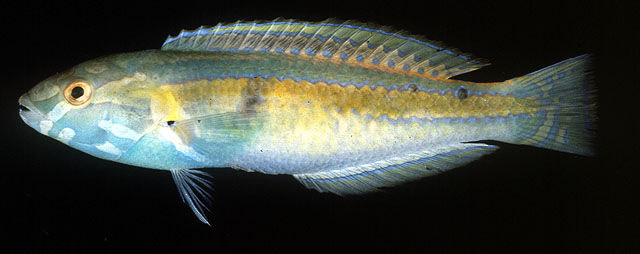fish: (18, 16, 598, 228)
